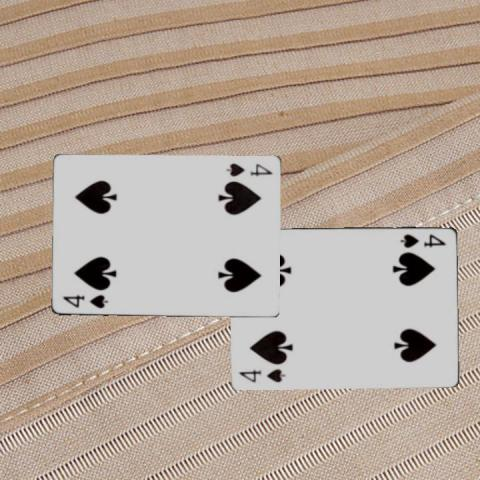4s: (237, 365, 287, 384), (398, 230, 448, 248), (60, 292, 110, 310), (223, 161, 273, 178)
